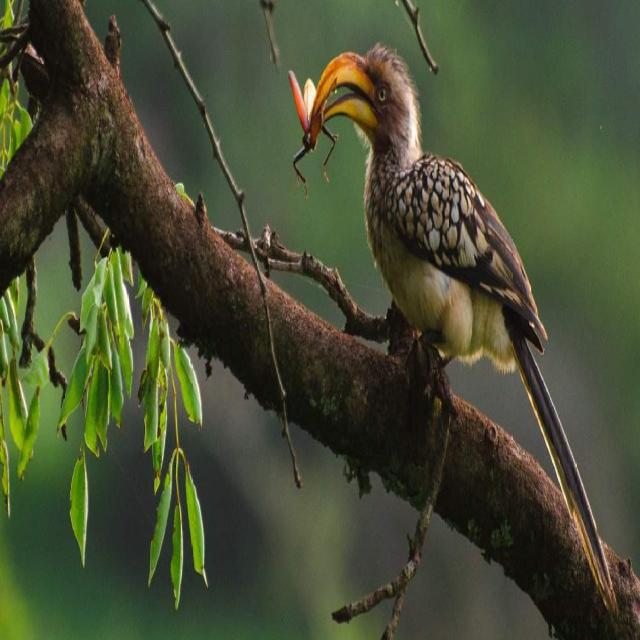Hornbill: (309, 51, 559, 406)
